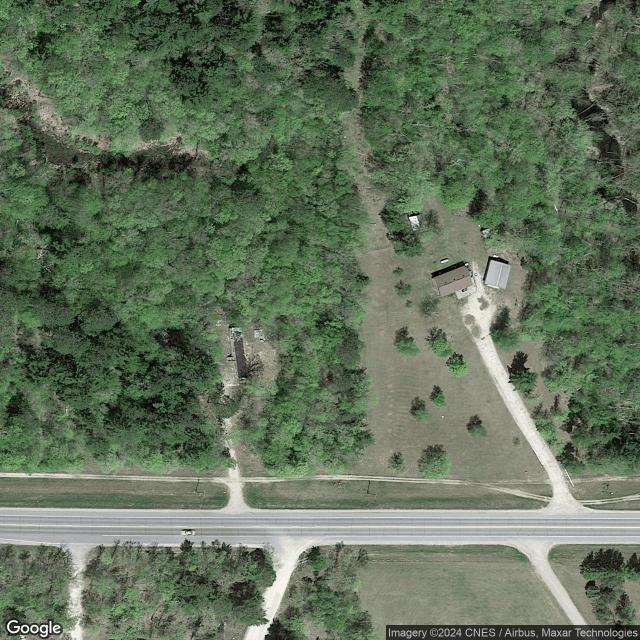Propane: (439, 257, 450, 264)
